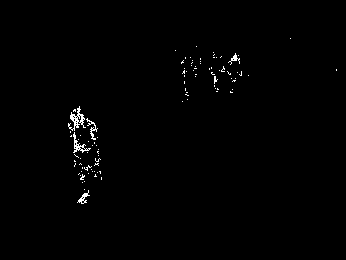person: (67, 105, 103, 206)
